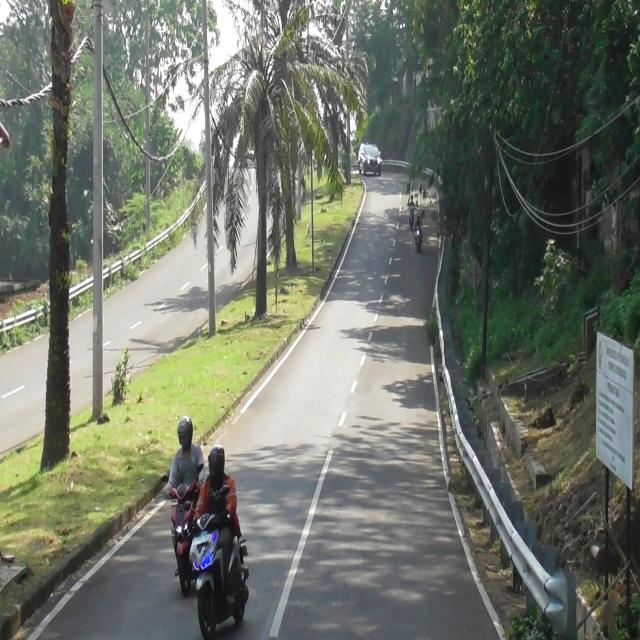motorcycle: (189, 513, 251, 640), (166, 484, 202, 600), (415, 226, 423, 252), (408, 206, 415, 228)
person: (197, 446, 239, 597), (167, 413, 206, 487), (408, 195, 415, 207), (415, 216, 421, 228)
rider_region: (197, 441, 250, 640), (170, 415, 200, 590), (415, 216, 423, 253), (408, 193, 414, 230)
